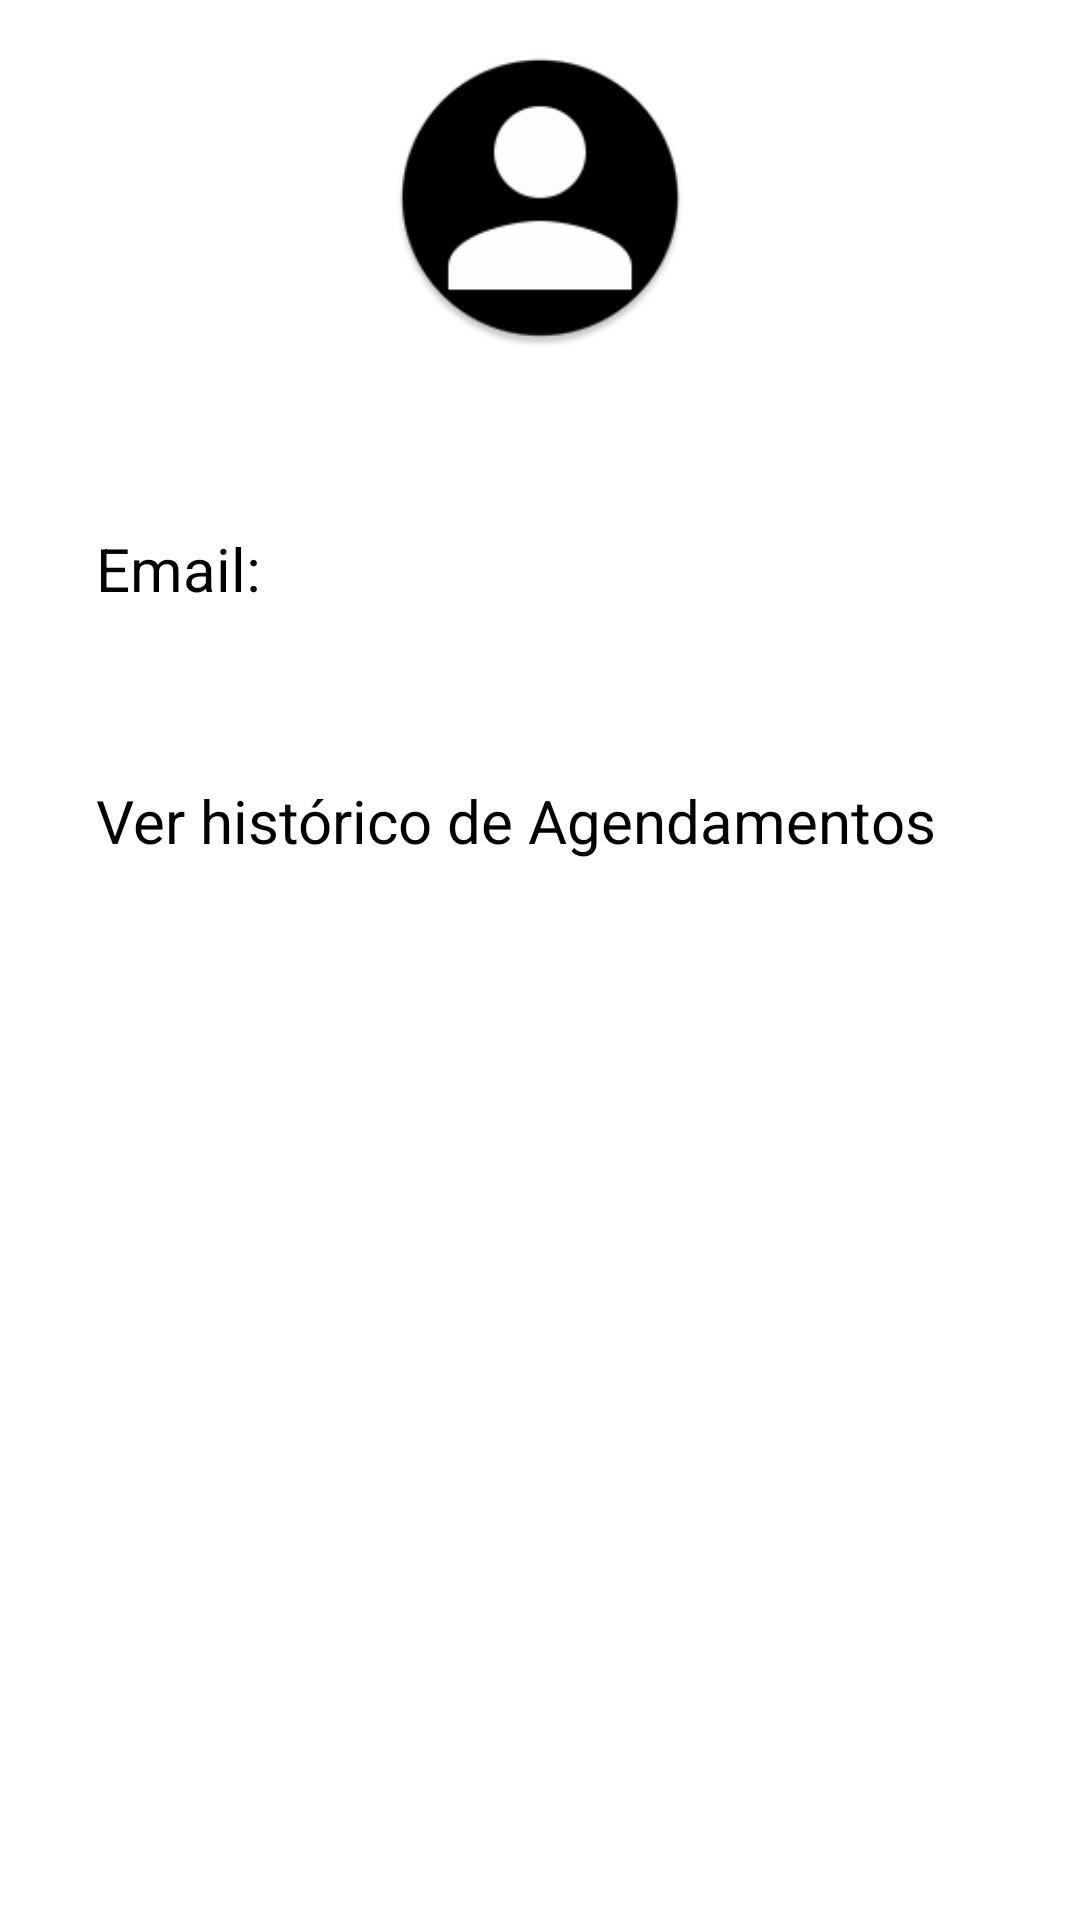

Icons on this 1080*1920 Android screen, each with the point to tap as (x=x, y=y):
user: (x=540, y=200)
